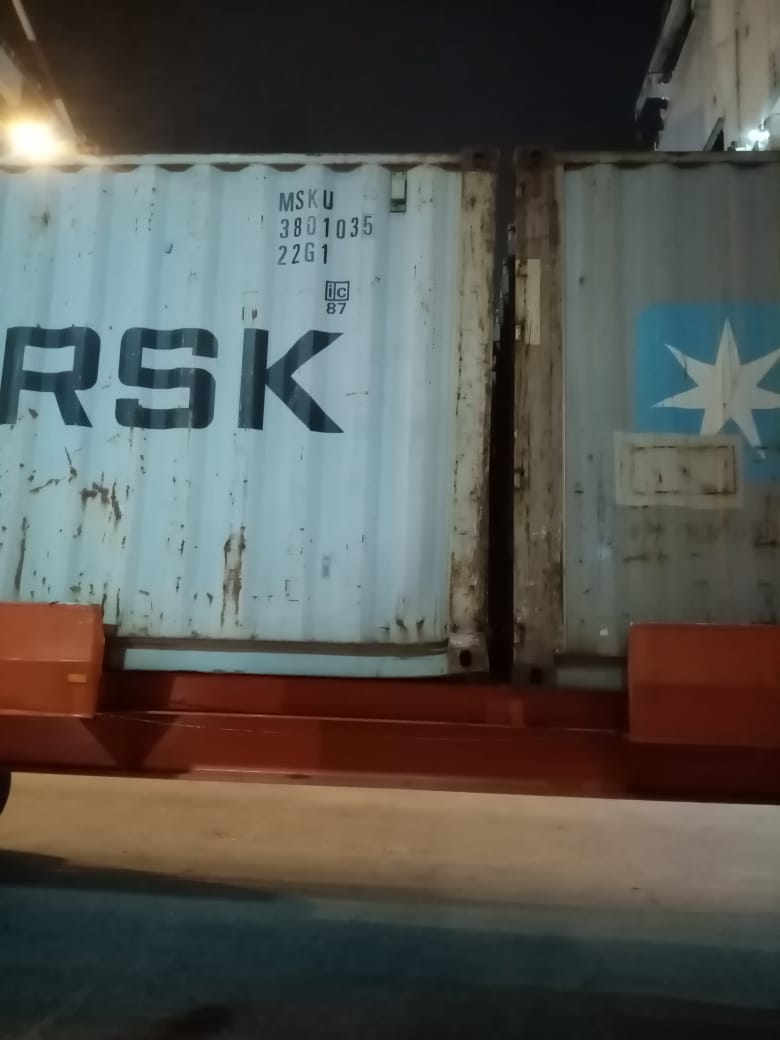rust: (189, 525, 260, 606)
